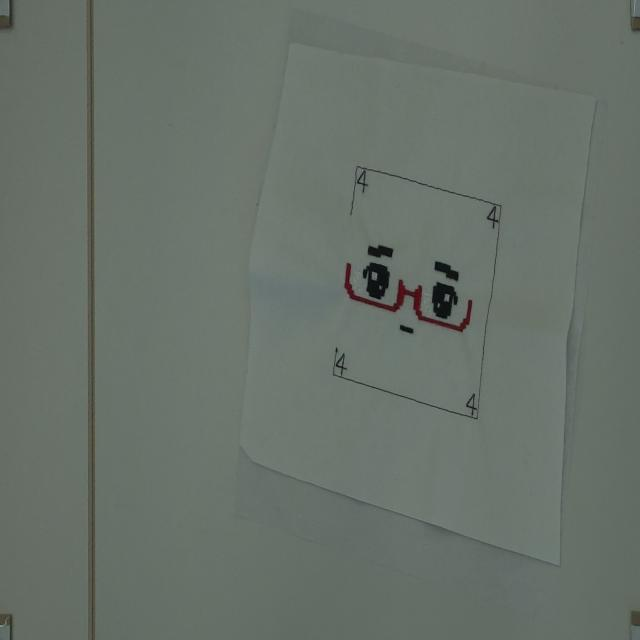4 -: (332, 348, 348, 376), (353, 169, 370, 195), (486, 204, 502, 228), (463, 393, 478, 417)
